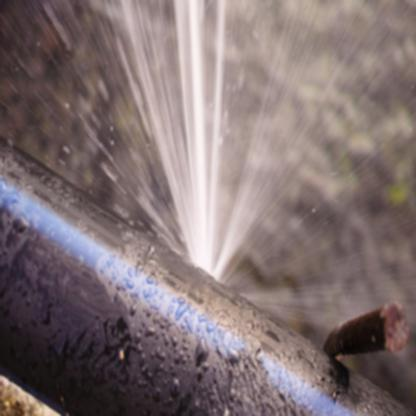burst: (158, 221, 256, 308)
